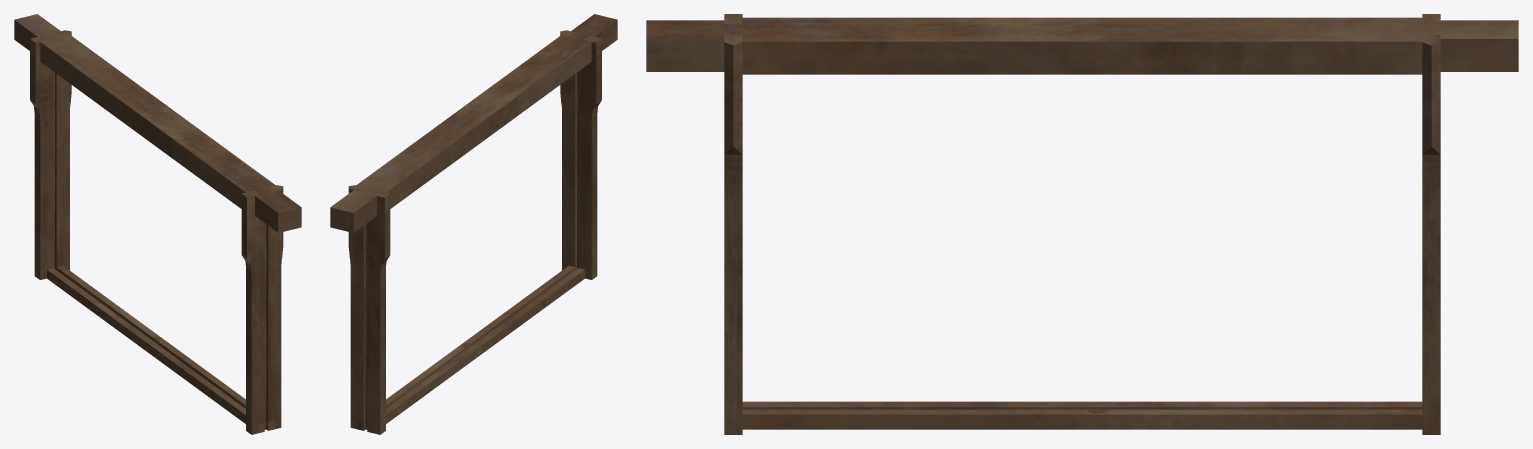
The model's file is Frame.fbx.
3 views of the same model, side by side, from view 1: azimuth 30°, elevation 25°; view 2: azimuth 150°, elevation 25°; view 3: azimuth 270°, elevation 25° (orthographic). The views are drawn at different scales.
Parts seen in each view (by area): view 1: Frame_Bottom; view 2: Frame_Bottom; view 3: Frame_Bottom.
Part boxes in pixels (x1=…): Frame_Bottom: x1=14, y1=14, x2=301, y2=434; Frame_Bottom: x1=330, y1=14, x2=617, y2=434; Frame_Bottom: x1=646, y1=14, x2=1518, y2=434.
Size of the model in its own units: 3.67 by 21.5 by 43.2.
